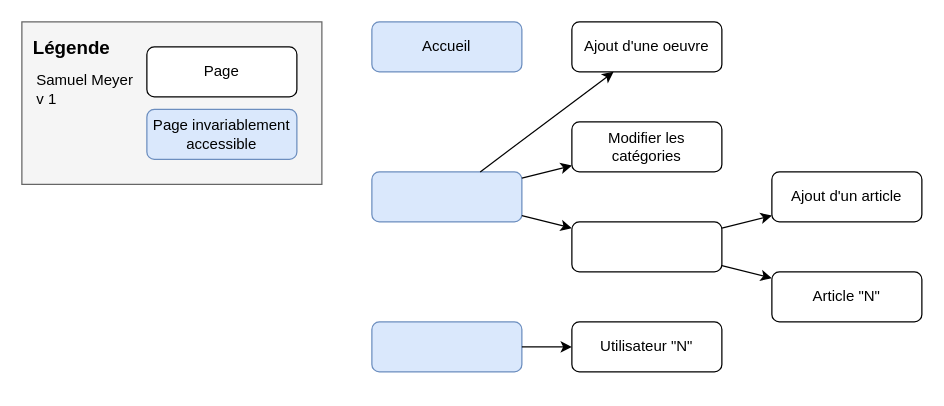
The diagram is 944 pixels wide and 406 high, and some of its shapes have lost their labels. The centre of each missing label's shape, as x and y in pixels:
Utilisateurs: the point at 446,346
Œuvre "N": the point at 646,246
Œuvres: the point at 446,196
